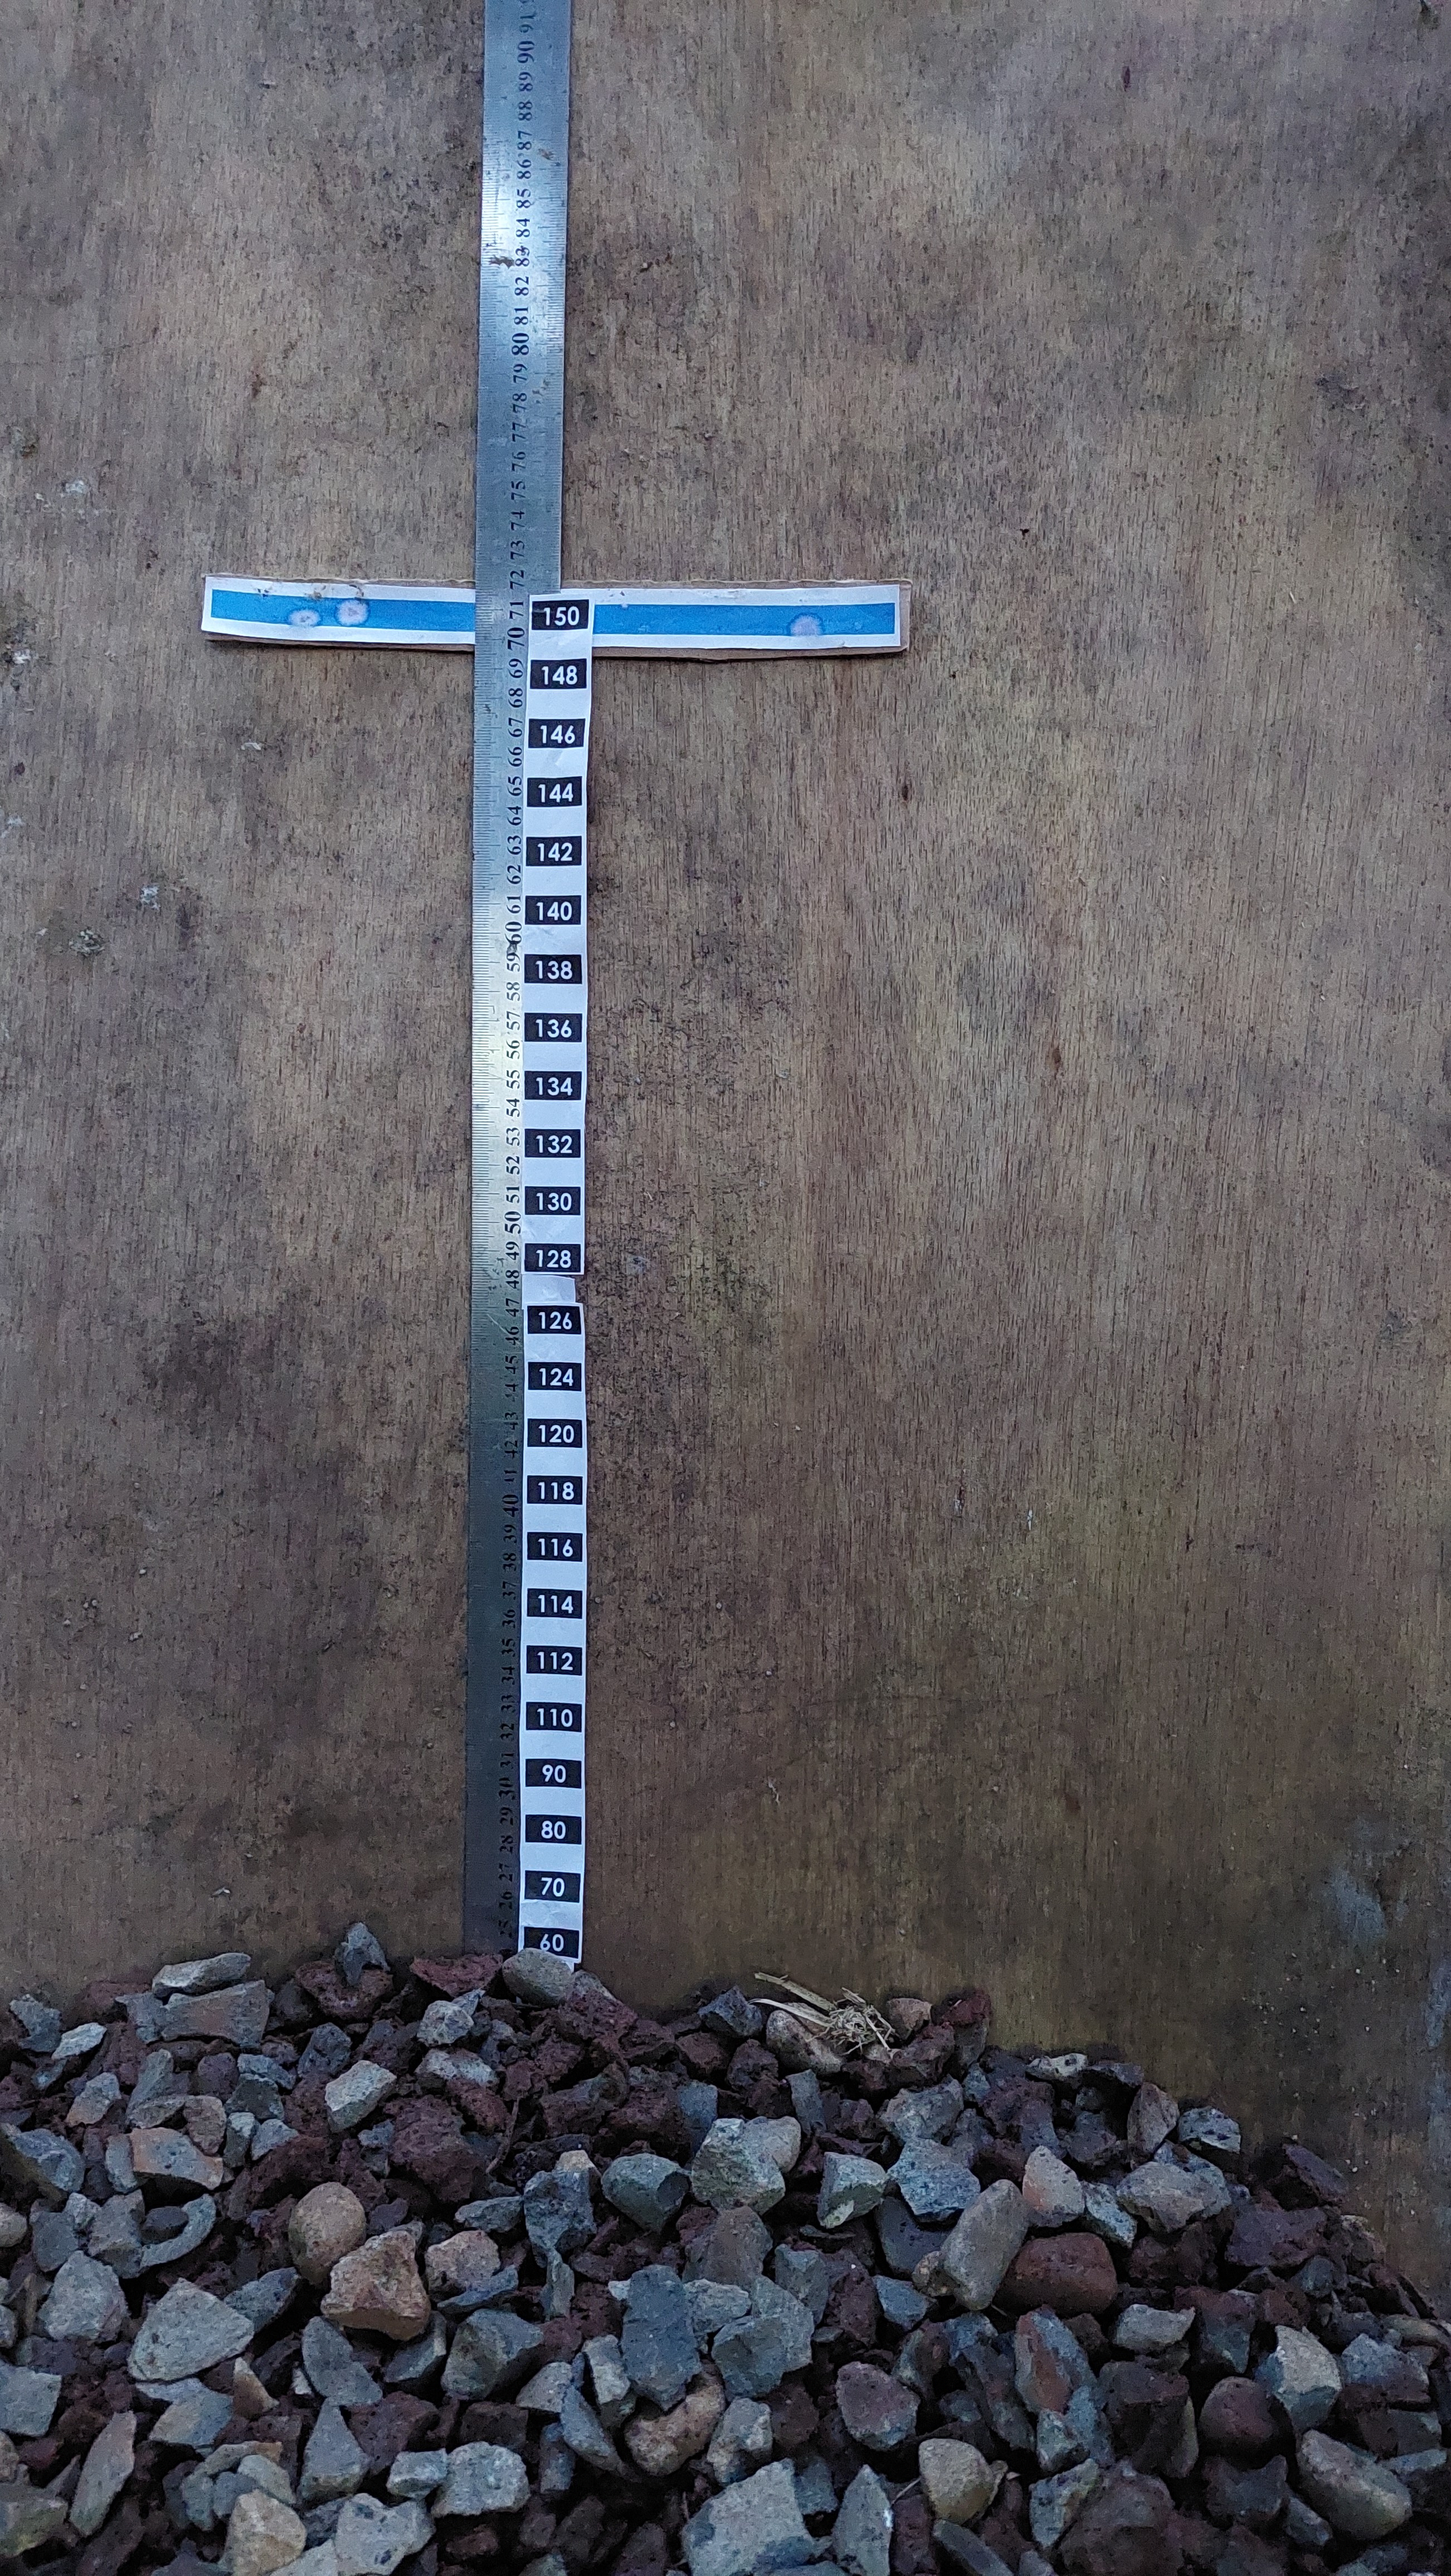kotak_2x1: (522, 1582, 587, 1626), (522, 1468, 587, 1511), (520, 948, 587, 989), (522, 1065, 586, 1108), (526, 653, 591, 694), (522, 1007, 587, 1047), (522, 1638, 587, 1679), (520, 1753, 586, 1794), (522, 1808, 584, 1851), (522, 1865, 584, 1907), (522, 890, 586, 931), (522, 1122, 586, 1162), (522, 1182, 586, 1223), (524, 1412, 587, 1453), (522, 833, 587, 872), (522, 1525, 587, 1564), (522, 771, 586, 810), (522, 1697, 586, 1736), (529, 596, 591, 633), (524, 1357, 586, 1394), (526, 715, 589, 750), (524, 1302, 584, 1339), (522, 1240, 586, 1274)
mal_biru_150: (205, 580, 902, 642)
